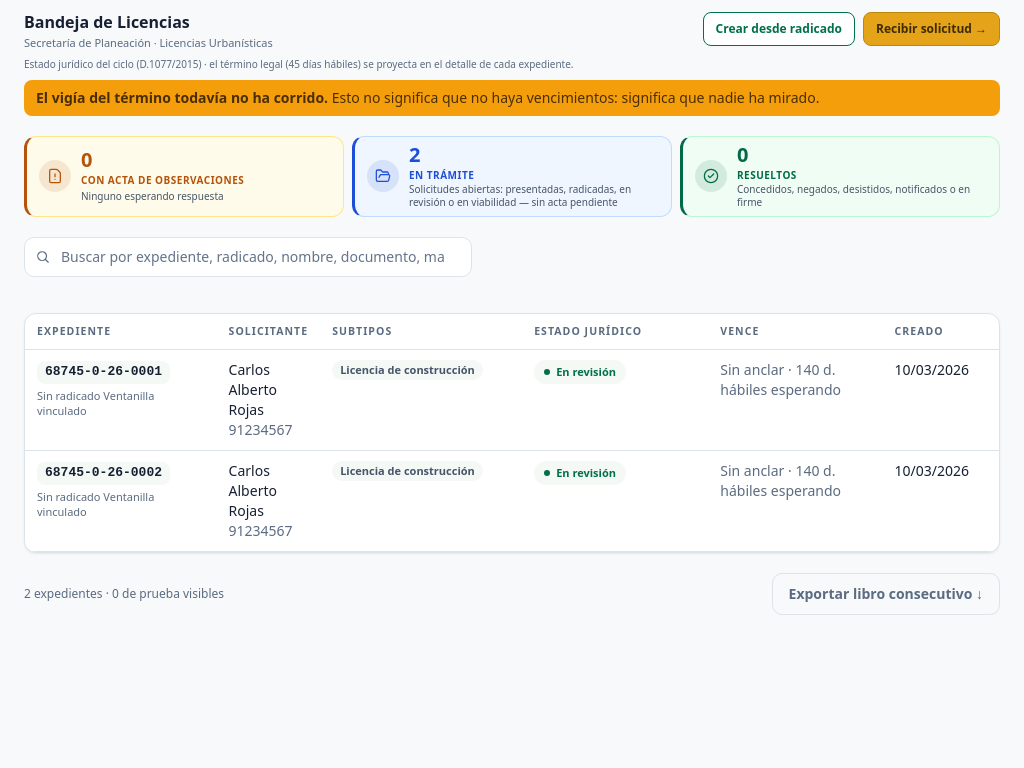
Test: BandejaLicenciasClient — buscador rápido › filtra por matrícula inmobiliaria del predio (no una columna visible de la tabla)
The image size is (1024, 768).
Check: the text "68745-0-26-0002" is shown, box 37,462 -> 170,485
Replace the text in the search field named "Buscar en la bandeja de licencias por expediente, radicado, solicitante, documento, matrícula inmobiliaria, tipo o estad" with "321-51890" at (248, 257), box 24,237 -> 472,277
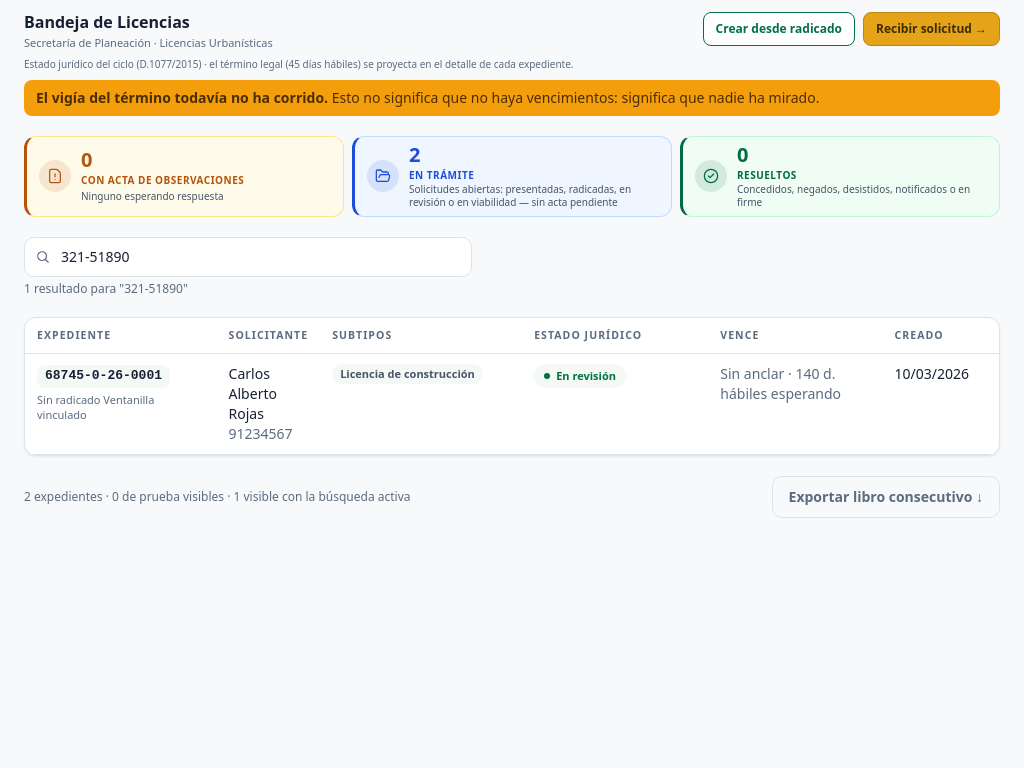
Check: the text "68745-0-26-0001" is shown, box 37,365 -> 170,388
Check: the link "68745-0-26-0002" is gone
